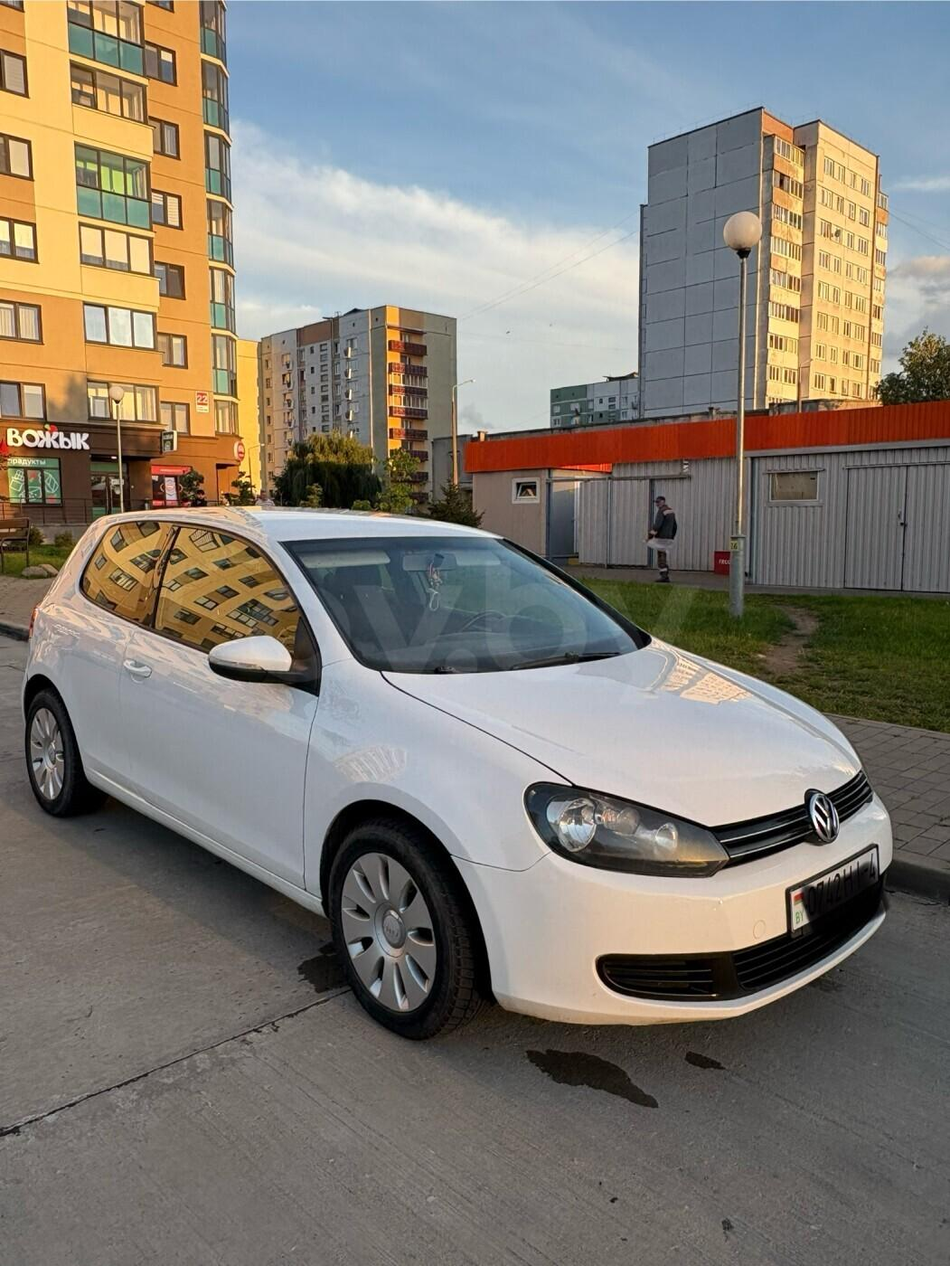Golf_2008-2013: (23, 496, 901, 1052)
